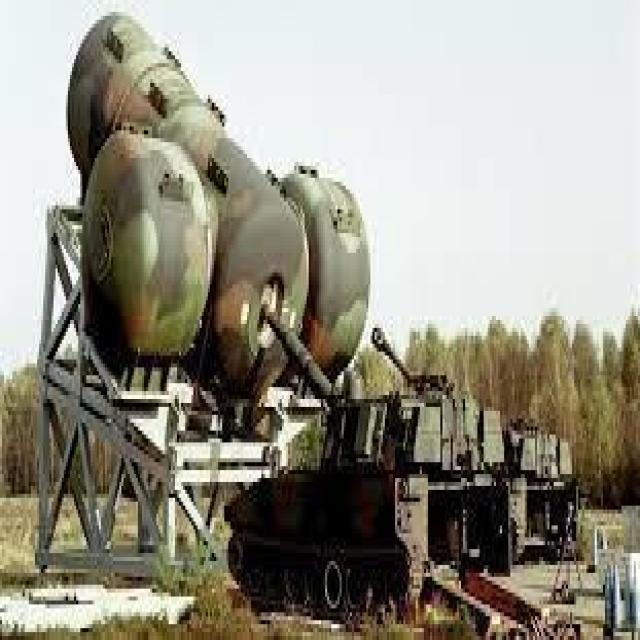Tanks: (25, 24, 566, 592)
